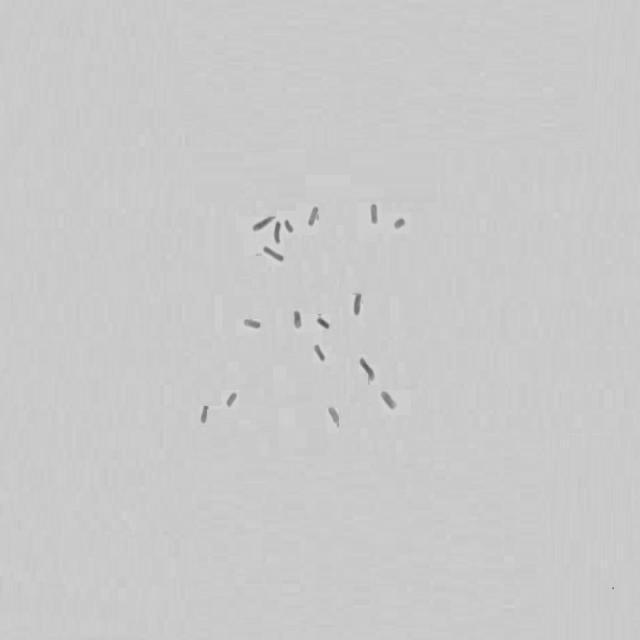E-coli: (356, 354, 380, 384), (258, 248, 286, 268), (377, 389, 400, 413), (368, 197, 384, 231), (307, 340, 328, 365), (312, 309, 332, 334), (241, 313, 264, 333), (290, 304, 303, 334), (326, 403, 341, 429), (252, 216, 273, 234), (352, 290, 364, 320), (393, 211, 409, 233), (198, 402, 212, 427), (308, 204, 320, 229), (225, 389, 239, 409), (275, 218, 283, 245), (282, 219, 294, 235)
